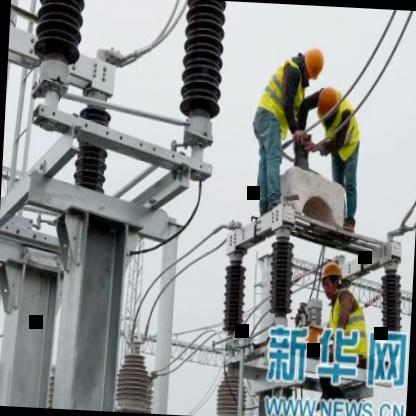helmet: (316, 257, 346, 297), (298, 43, 328, 83), (317, 85, 341, 120)
